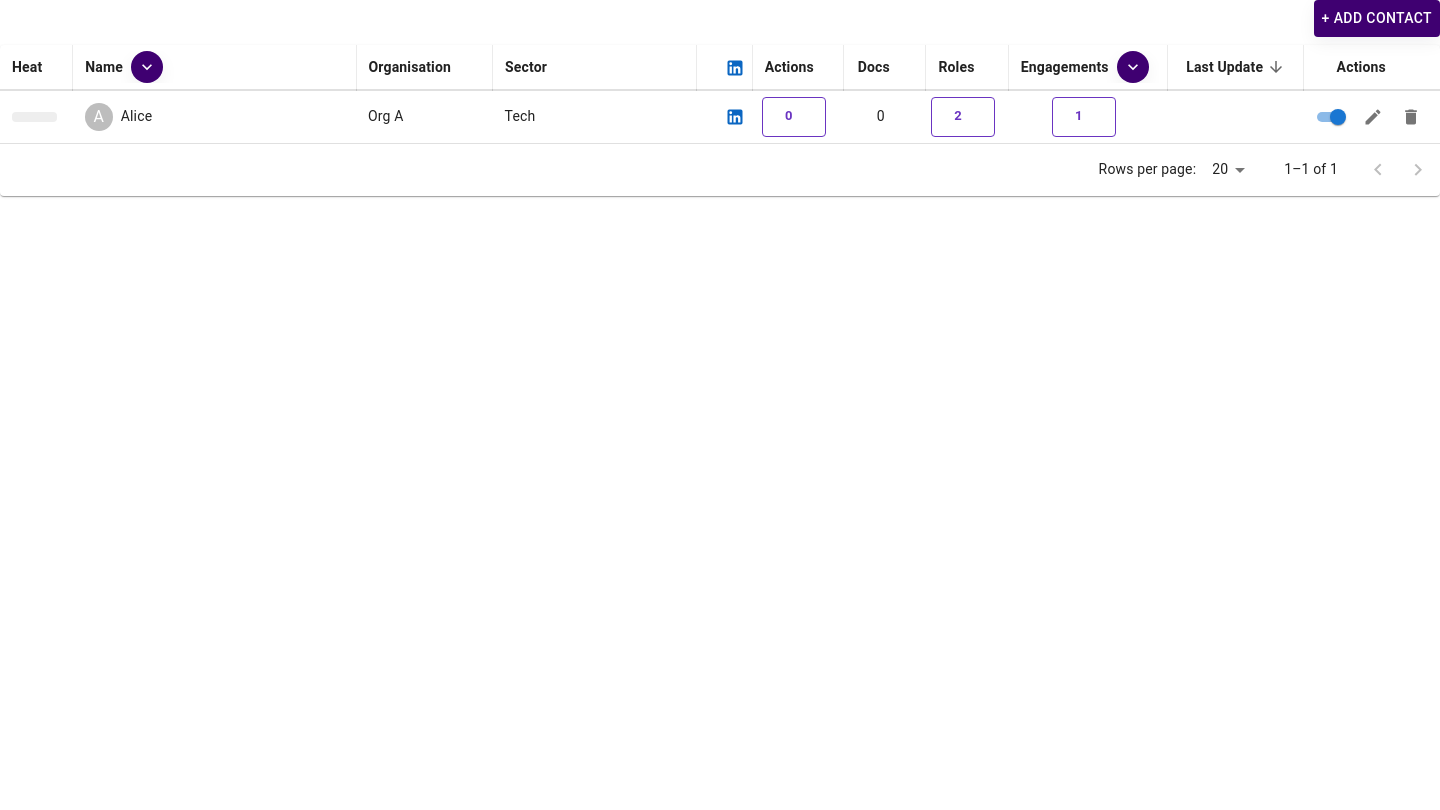
Scenario: ContactsTable › renders contacts rows and counts
The image size is (1440, 810).
Expected: the text "Alice" is shown, [121,106,152,126]
Expected: the text "Org A" is shown, [368,108,404,124]
// Click the engagement count to open the engagements modal
Click the button "1": (1084, 116) [1052,96,1116,136]
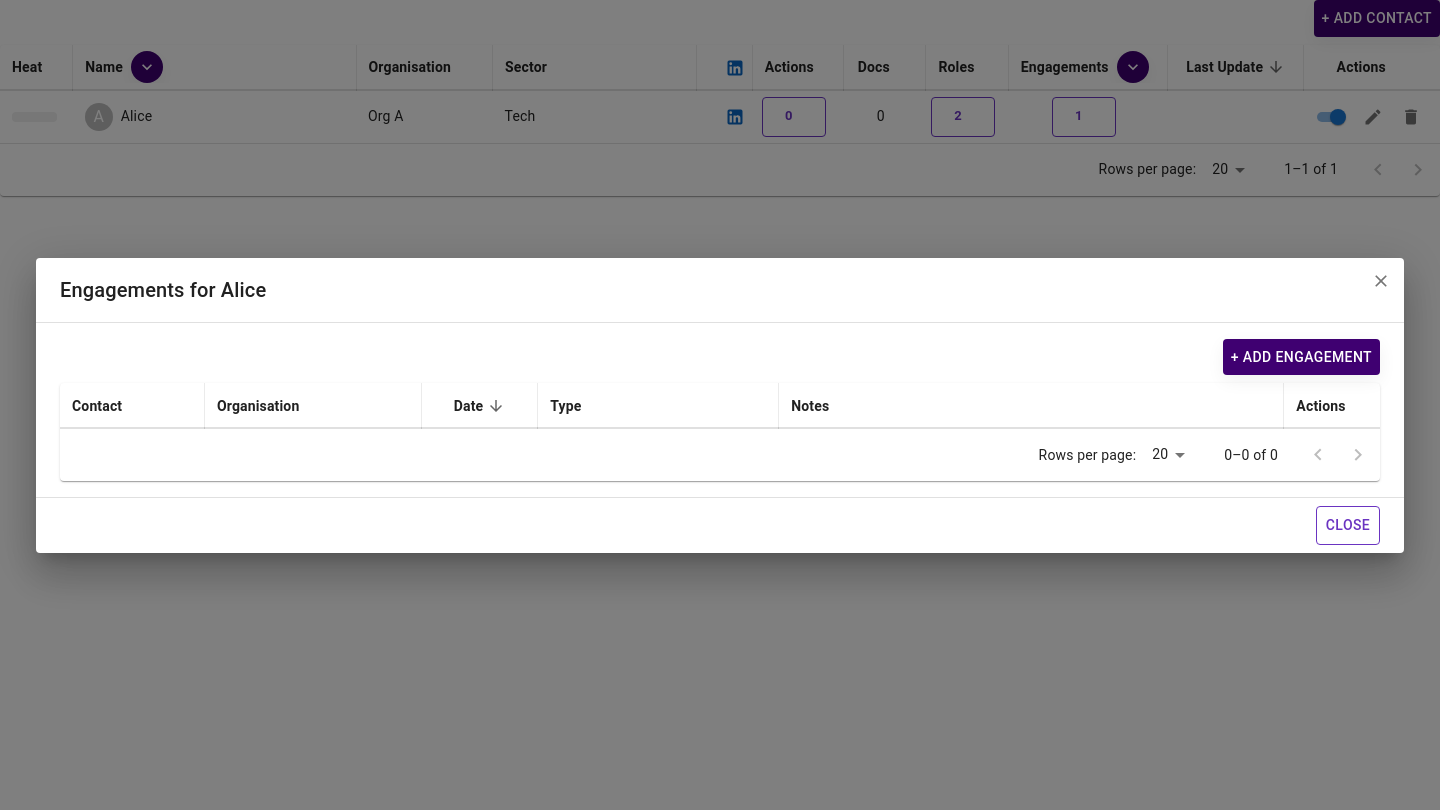
Expected: the heading "Engagements for Alice" is shown, [60,278,266,302]
Expected: the button "Date" is shown, [454,394,509,418]
